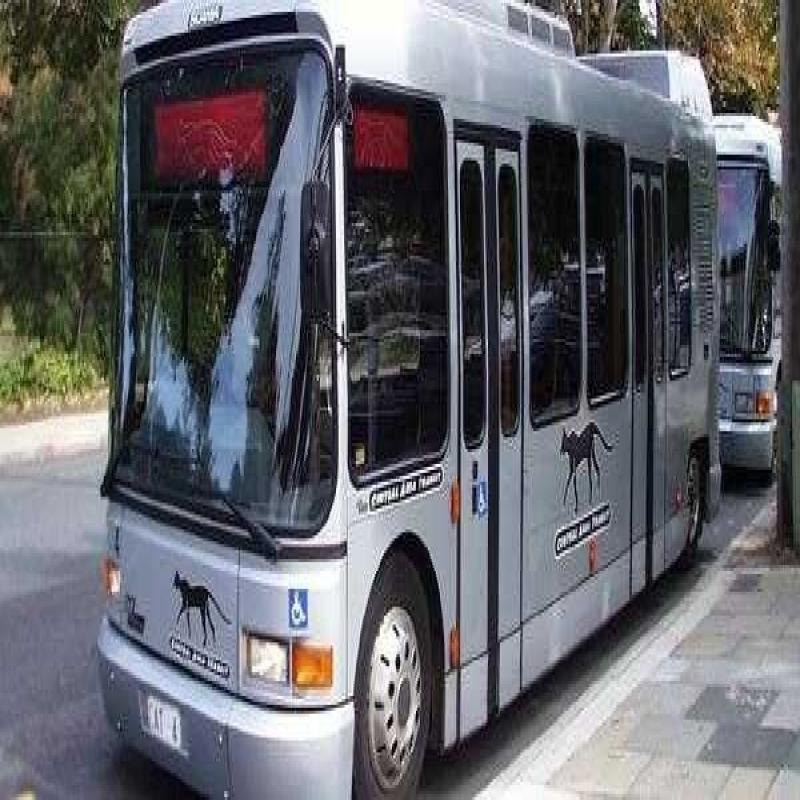bus: (100, 9, 721, 748)
